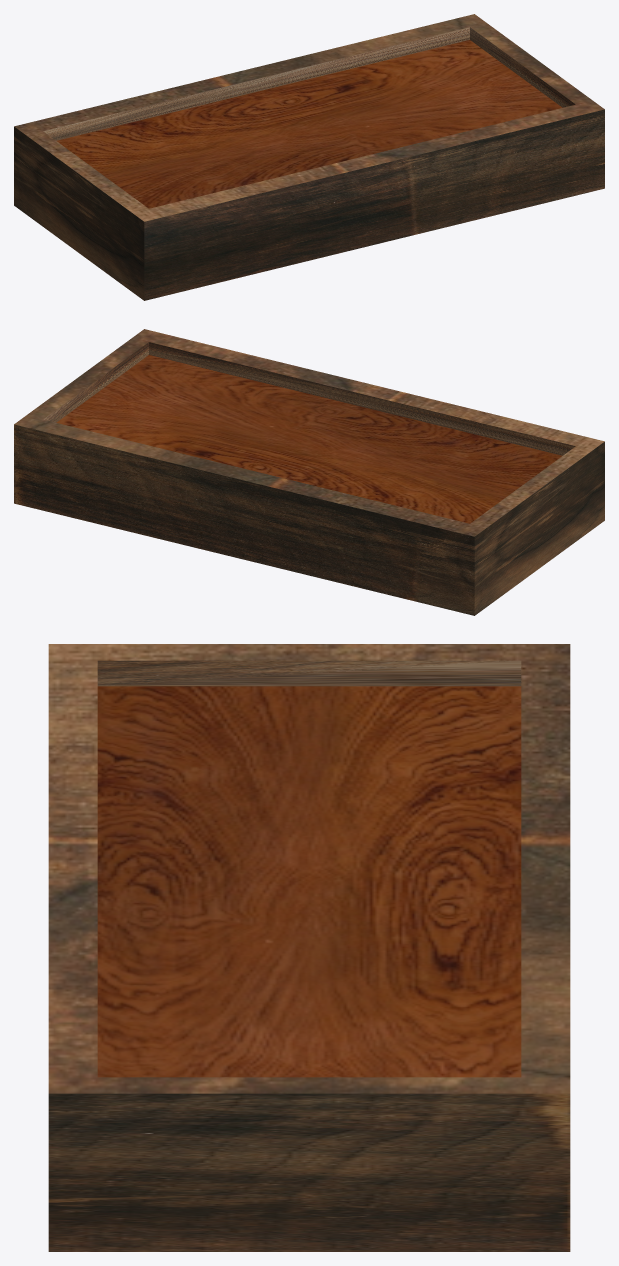
File: DiceTable.fbx
3 renders of one model, top to bottom at view 1: azimuth 30°, elevation 25°; view 2: azimuth 150°, elevation 25°; view 3: azimuth 270°, elevation 25°, orthographic. The views are drawn at different scales.
Visible parts, largest first — view 1: Cube.008; view 2: Cube.008; view 3: Cube.008.
Boxes of the visible parts, bbox=[...] form: Cube.008: bbox=[14, 14, 604, 300]; Cube.008: bbox=[14, 329, 604, 615]; Cube.008: bbox=[48, 644, 570, 1251].
Bounding box in the file's own units: 408 × 66.99 × 200.
